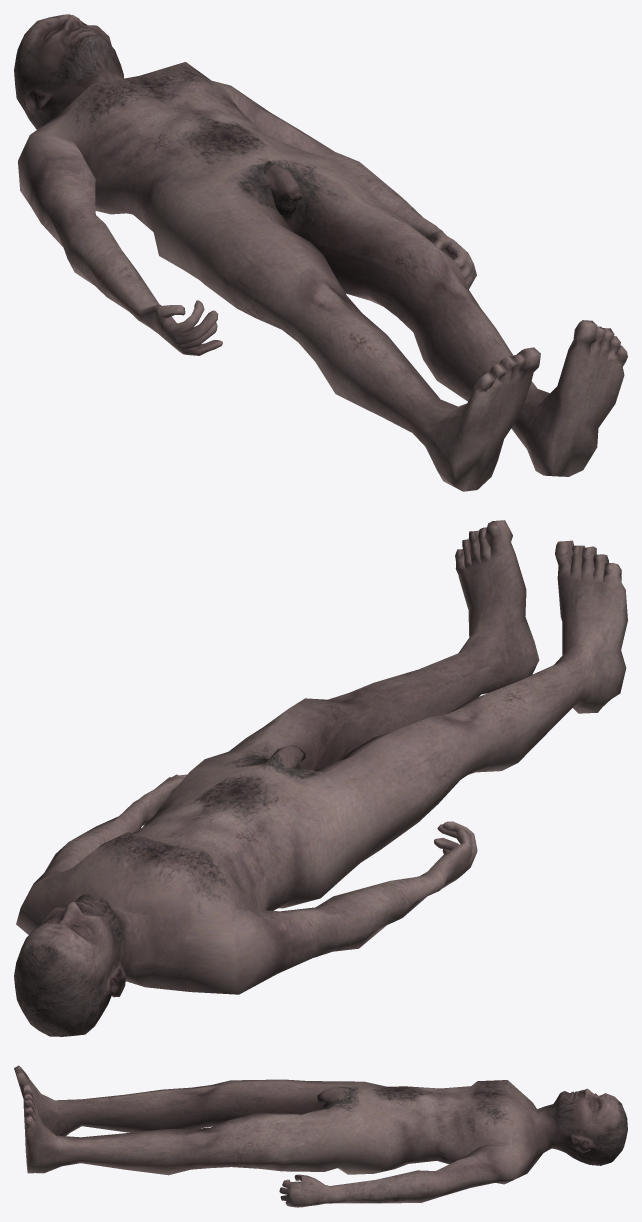
The model's file is antidote_corpse.dae.
3 renders of one model, top to bottom at view 1: azimuth 30°, elevation 25°; view 2: azimuth 150°, elevation 25°; view 3: azimuth 270°, elevation 25°, orthographic. The views are drawn at different scales.
Parts seen in each view (by area): view 1: polySurface6; view 2: polySurface6; view 3: polySurface6.
Part boxes in pixels (x1,y1,x2,y2): polySurface6: (14, 14, 627, 491); polySurface6: (14, 520, 627, 1036); polySurface6: (14, 1065, 627, 1207).
Bounding box in the file's own units: 0.6881 × 0.3245 × 1.93.
